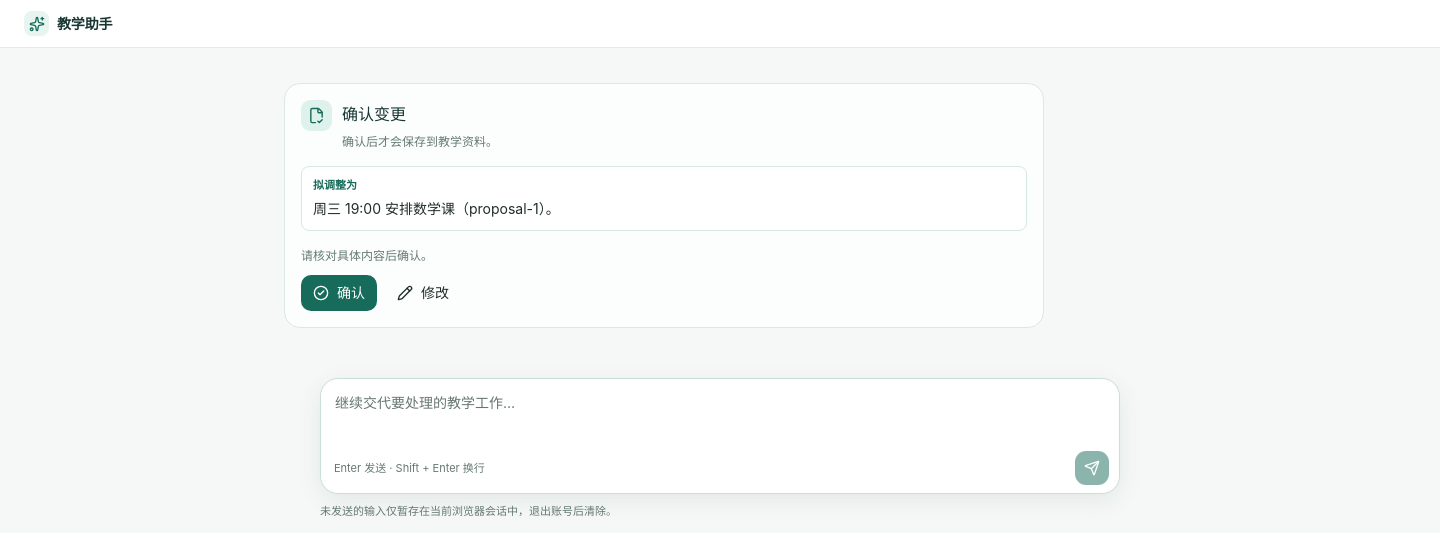
Scenario: confirmation modification flow › cancels the proposal before preparing a revision draft
What coordinates should you click on to do the following:
click the button "修改"
I would click on:
 (423, 294)
Its box is [385,276,461,312].
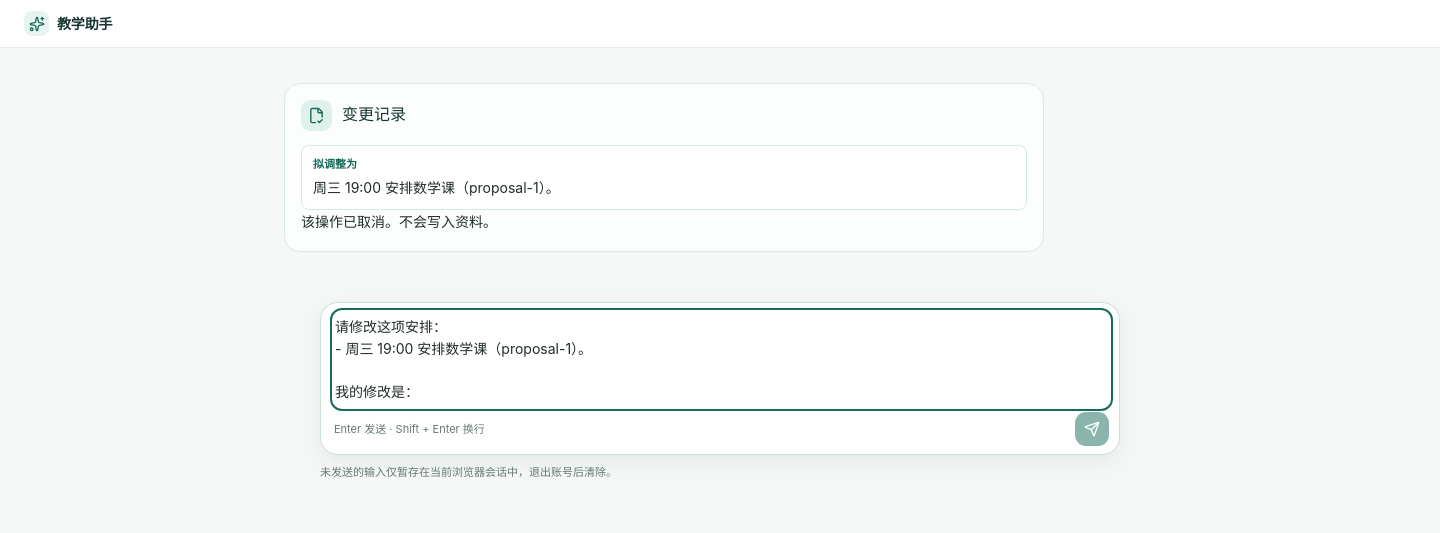
Expected: the text "该操作已取消。不会写入资料。" is shown, [301,214,497,230]
